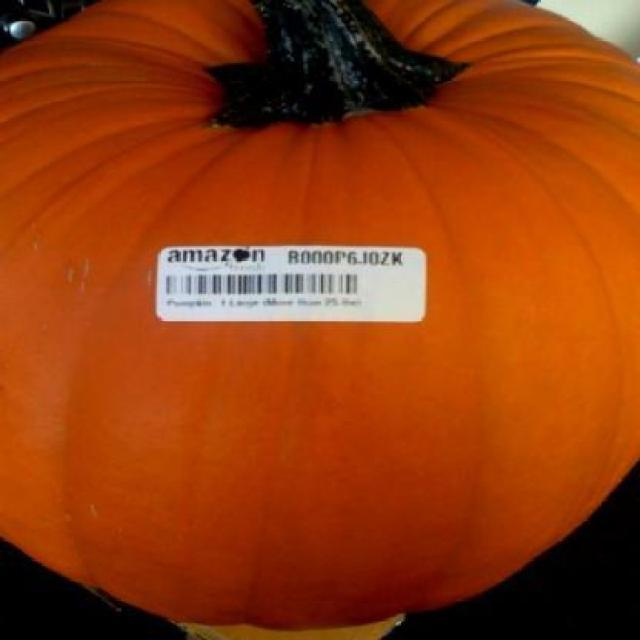Pumpkin: (7, 33, 626, 616)
